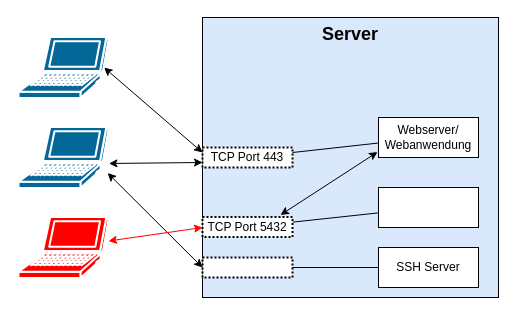
Some shapes in this 516 by 315 pixel diagram are drawn without their labels. Each missing label, with the centre of its shape:
PostgreSQL Datenbank: [428,207]
TCP Port 22: [247,267]
